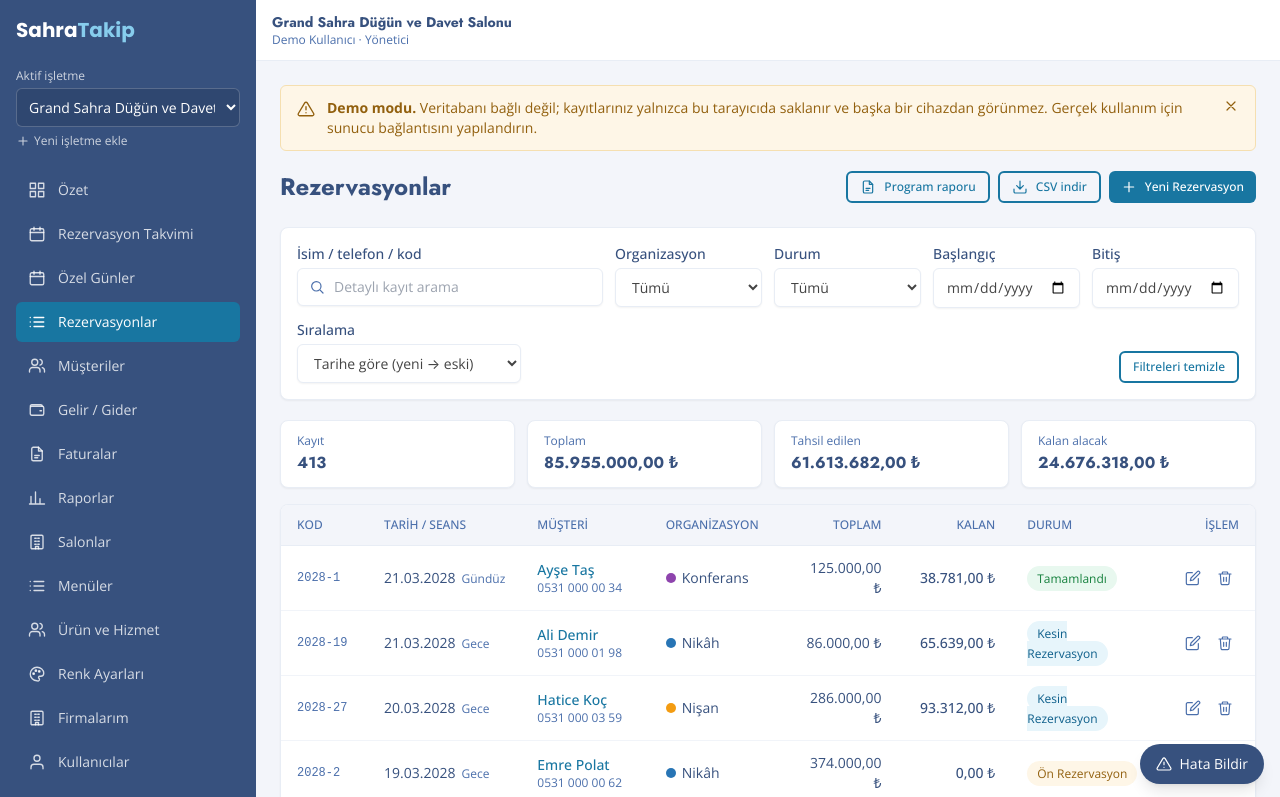
Test: Rezervasyon listesi › bulunamayan aramada bilgilendirme gösterir
In the search field labelled "İsim / telefon / kod": point(450, 287) [297, 268, 603, 306], type "zzzzyokk"
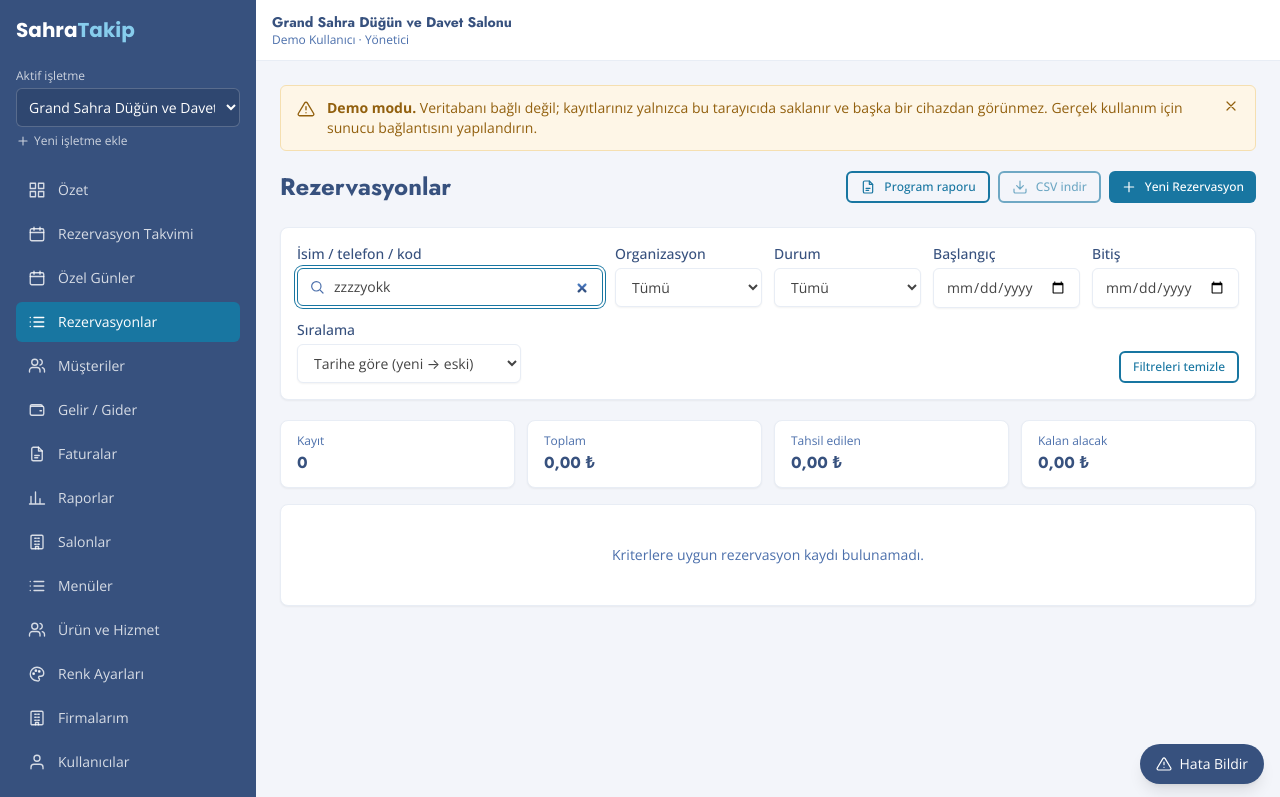
Expected: the text "Kriterlere uygun rezervasyon kaydı bulunamadı." is shown, [612, 545, 924, 564]
